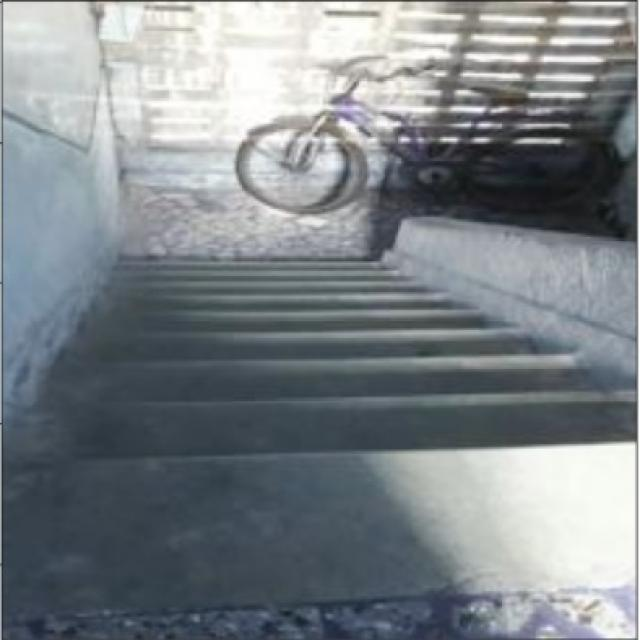stairs: (5, 240, 637, 638)
